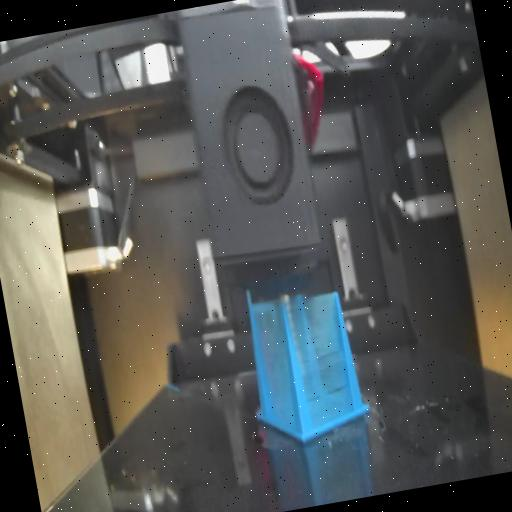stringing: (284, 290, 363, 434), (246, 298, 302, 440)
